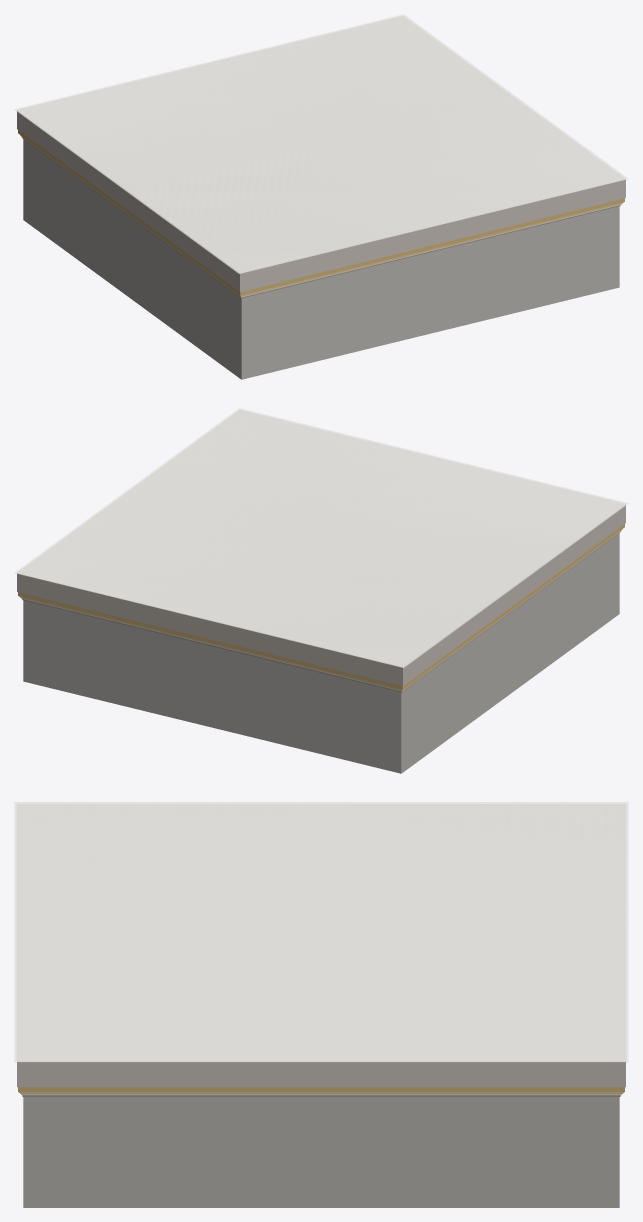
The model's file is terrazzo-multi.glb.
The picture shows the model from 3 angles, top to bottom: view 1: azimuth 30°, elevation 25°; view 2: azimuth 150°, elevation 25°; view 3: azimuth 270°, elevation 25°; orthographic projection. The views are drawn at different scales.
Visible parts, largest first — view 1: topcoat-2, topcoat-1, body, substrate, gel-fill, decorative-strips, mesh-layer, substrate-prep, primer; view 2: topcoat-2, topcoat-1, body, substrate, gel-fill, decorative-strips, mesh-layer, substrate-prep, primer; view 3: topcoat-2, topcoat-1, gel-fill, substrate, body, decorative-strips, mesh-layer, substrate-prep, quartz-broadcast, primer.
Part boxes in pixels (box(x1,y1,x2,y2)): topcoat-2: box(14, 14, 628, 273); topcoat-1: box(16, 15, 626, 273); body: box(17, 17, 625, 291); substrate: box(23, 139, 619, 379); gel-fill: box(17, 16, 625, 265); decorative-strips: box(18, 130, 624, 295); mesh-layer: box(21, 136, 621, 297); substrate-prep: box(22, 138, 620, 298); primer: box(20, 135, 622, 296); topcoat-2: box(14, 408, 628, 667); topcoat-1: box(16, 409, 626, 667); body: box(17, 410, 625, 685); substrate: box(23, 533, 619, 773); gel-fill: box(17, 410, 625, 657); decorative-strips: box(18, 524, 624, 689); mesh-layer: box(21, 530, 621, 691); substrate-prep: box(22, 532, 620, 692); primer: box(20, 529, 622, 690); topcoat-2: box(14, 802, 628, 1062); topcoat-1: box(15, 803, 627, 1061); gel-fill: box(16, 803, 626, 1061); substrate: box(23, 1097, 619, 1207); body: box(17, 804, 625, 1087); decorative-strips: box(18, 1087, 624, 1092); mesh-layer: box(21, 1094, 621, 1095); substrate-prep: box(22, 1095, 620, 1096); quartz-broadcast: box(19, 1092, 623, 1092); primer: box(20, 1093, 622, 1093).
Bounding box in the file's own units: 0.3 × 0.0806 × 0.3.
